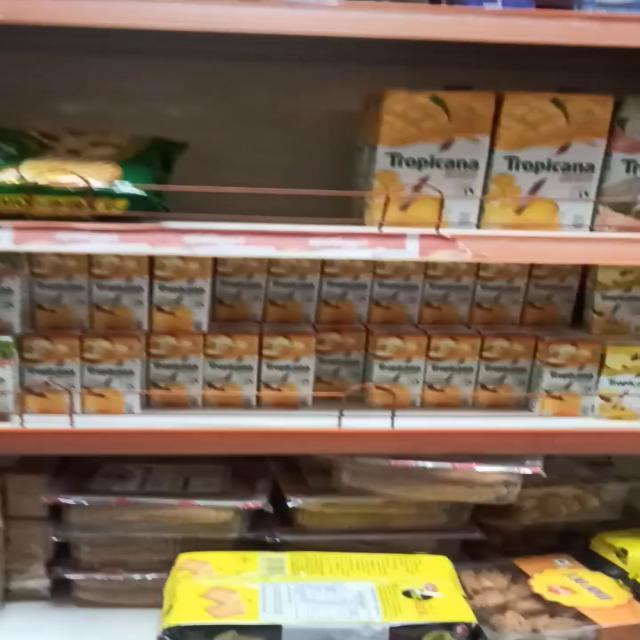Tropicana: (353, 81, 493, 226), (492, 82, 614, 235), (20, 255, 90, 332), (86, 338, 148, 414), (538, 341, 600, 416), (150, 259, 210, 336), (88, 258, 148, 332), (25, 334, 83, 409), (372, 332, 427, 410), (259, 332, 317, 404), (204, 336, 260, 410), (316, 256, 374, 324), (214, 258, 270, 328), (148, 336, 204, 406), (520, 266, 581, 330), (474, 335, 532, 401), (366, 266, 426, 328), (428, 332, 480, 402), (473, 264, 526, 328), (270, 262, 318, 331), (312, 336, 364, 398), (424, 268, 474, 330)
